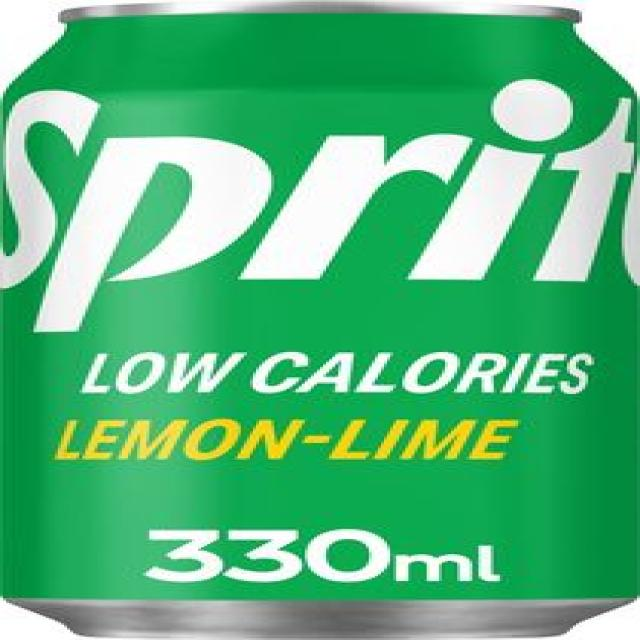sprite: (2, 1, 626, 640)
